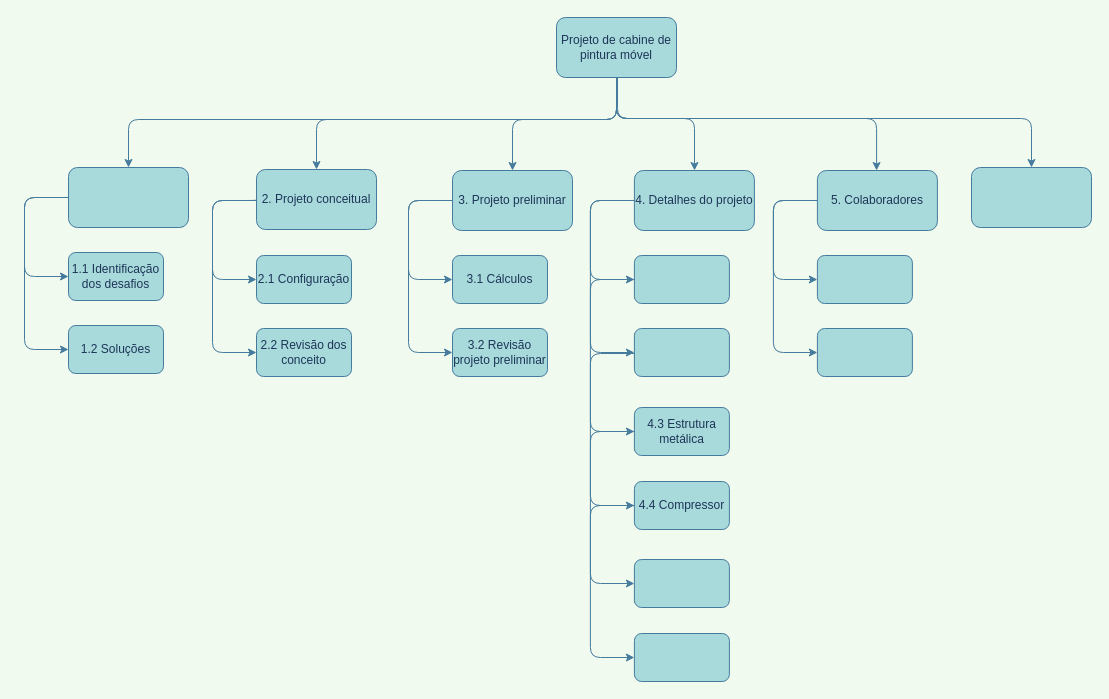
The diagram is 1109 pixels wide and 699 high, and some of its shapes have lost their labels. Each missing label, with the centre of its shape:
"1.Critérios do projeto" belongs at (x=128, y=197).
"4.1 Exaustor" belongs at (x=681, y=279).
"4.2 Iluminação" belongs at (x=681, y=352).
"4.5 Revestimento" belongs at (x=681, y=583).
"4.6 Filtro de ar" belongs at (x=681, y=657).
"6. Testes" belongs at (x=1031, y=197).
